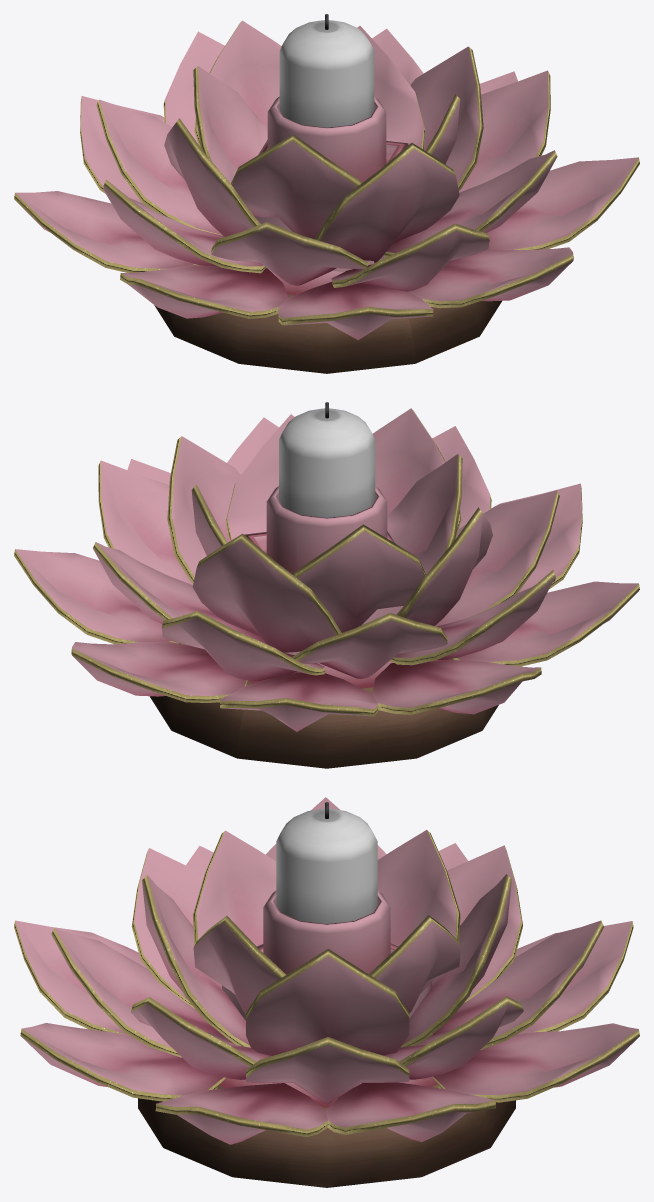
Rendered from sv_lotuslamp.glb.
3 views of the same model, one above another, from view 1: azimuth 30°, elevation 25°; view 2: azimuth 150°, elevation 25°; view 3: azimuth 270°, elevation 25° (orthographic). The views are drawn at different scales.
Parts seen in each view (by area): view 1: sv_lotuslamp; view 2: sv_lotuslamp; view 3: sv_lotuslamp.
Boxes of the visible parts, x1,y1,x2,y2 form: sv_lotuslamp: [14, 14, 639, 373]; sv_lotuslamp: [14, 402, 639, 768]; sv_lotuslamp: [14, 797, 639, 1187].
Size of the model in its own units: 0.9302 by 0.5 by 0.9302.
Materials: 3 (3 with a texture image).
